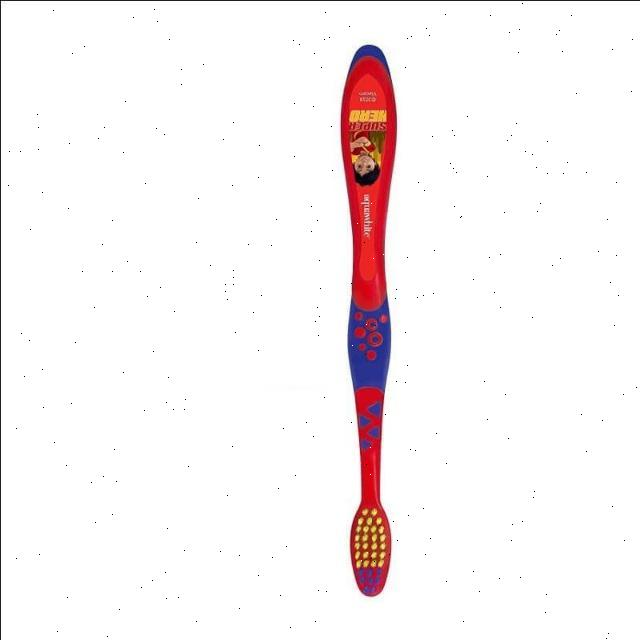toothbrush: (308, 23, 432, 619)
